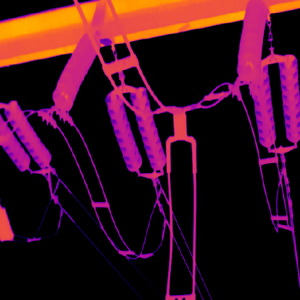insulator: (50, 30, 101, 111), (2, 100, 52, 169), (102, 89, 143, 173), (129, 85, 166, 170), (234, 0, 269, 83), (247, 58, 277, 148), (277, 53, 300, 143), (0, 113, 31, 172)
